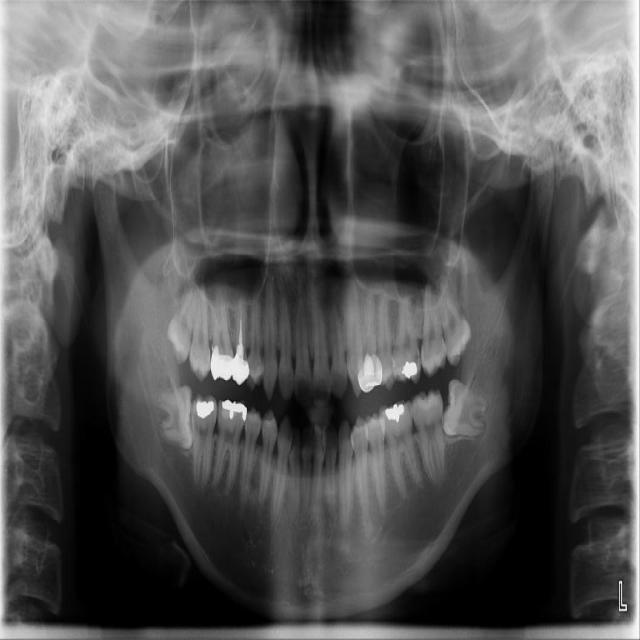Crown: (210, 347, 249, 386)
Filling: (222, 400, 247, 420), (384, 404, 405, 423), (196, 400, 215, 419), (402, 361, 418, 379)
Root Canal Treatment: (241, 305, 242, 342)
impacted tooth: (152, 383, 195, 450), (442, 378, 489, 437), (437, 275, 469, 360), (169, 282, 197, 358)
